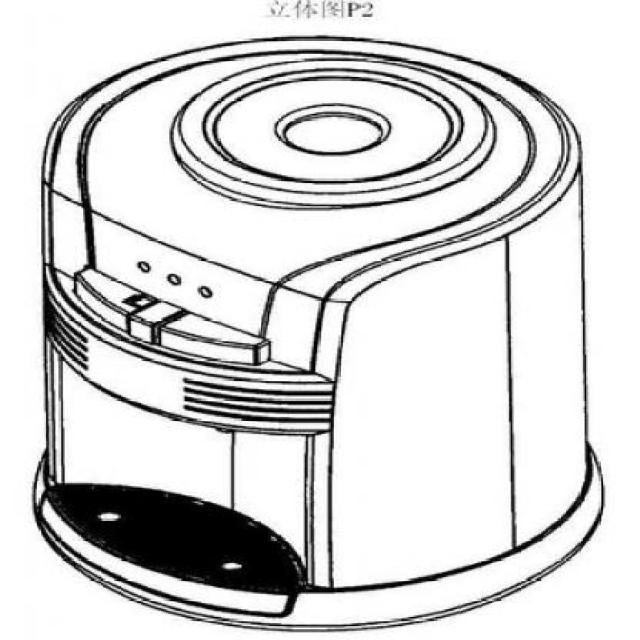cooler: (26, 31, 609, 640)
